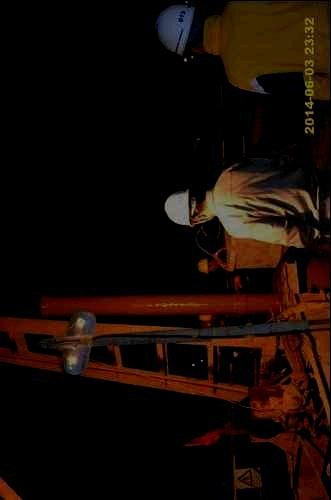helmet: (154, 2, 208, 59), (164, 186, 215, 228), (197, 256, 221, 276)
